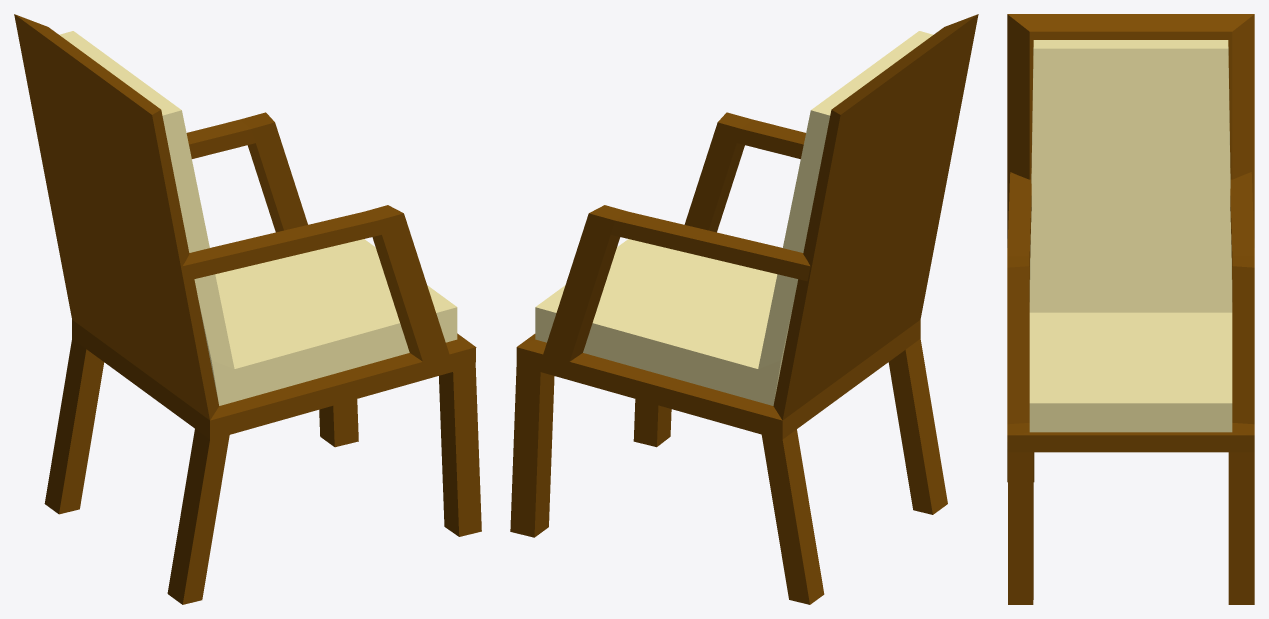
Rendered from Chair.obj.
3 renders of one model, left to right at view 1: azimuth 30°, elevation 25°; view 2: azimuth 150°, elevation 25°; view 3: azimuth 270°, elevation 25°, orthographic. The views are drawn at different scales.
Parts seen in each view (by area): view 1: Chair; view 2: Chair; view 3: Chair.
Boxes of the visible parts, <box> form: Chair: <box>14,14,481,604</box>; Chair: <box>510,14,978,604</box>; Chair: <box>1007,14,1254,604</box>.
Bounding box in the file's own units: 98.08 × 141 × 70.98.
